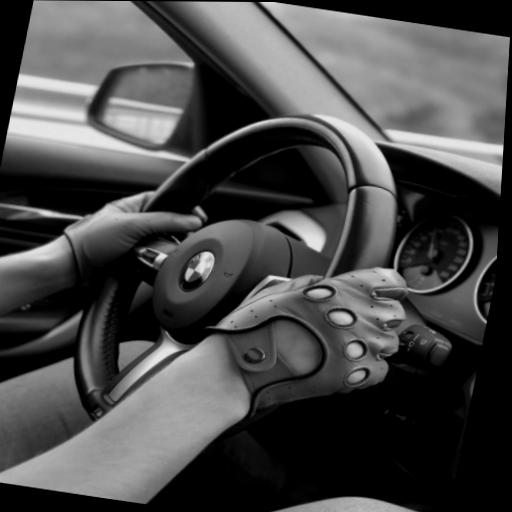Hands-on-the-Wheel: (188, 229, 450, 421), (21, 166, 244, 300)
